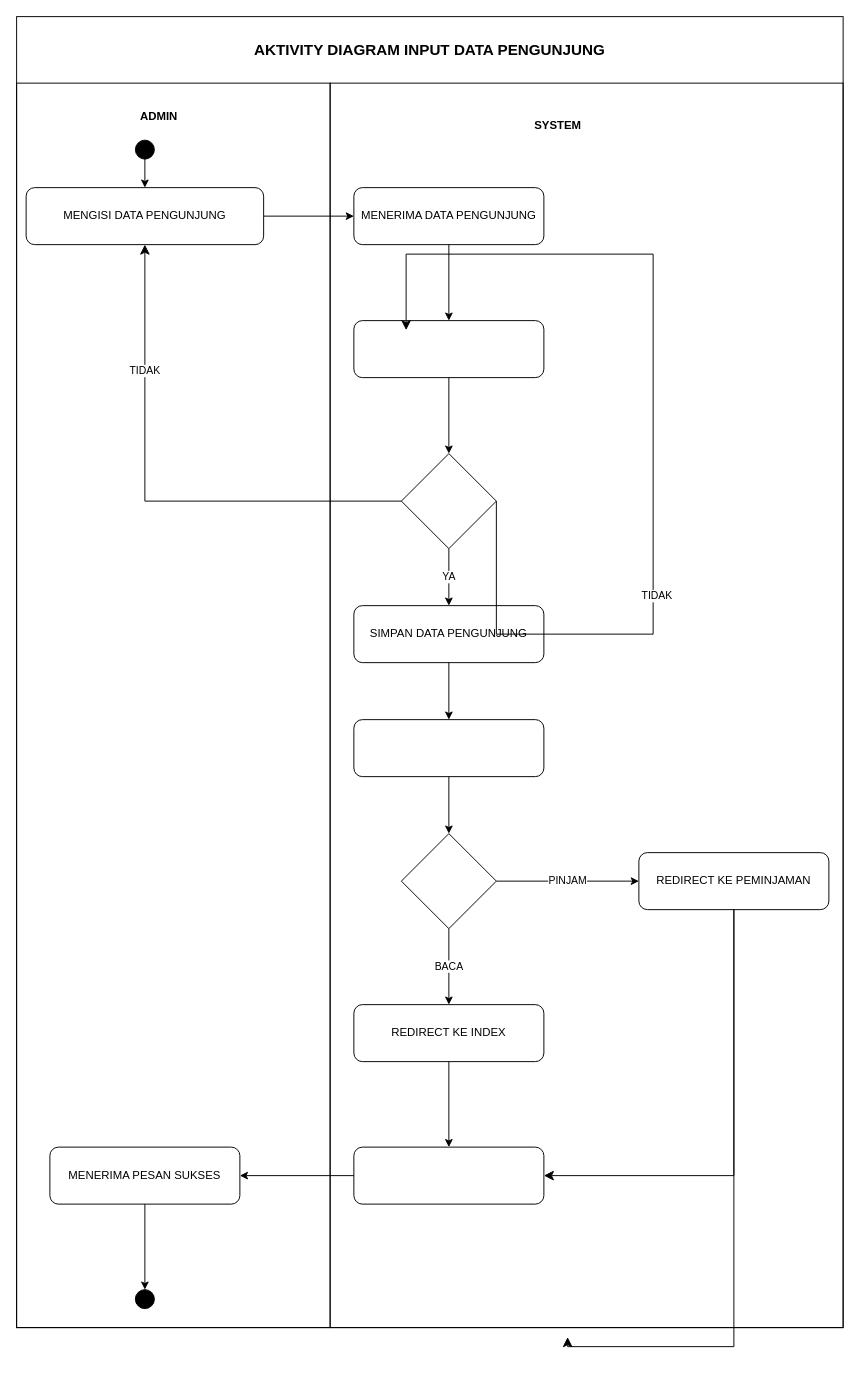
Image size: 860x1373. Some labels were removed from this diagram. The shapes that lost their labels are listed below. From the top down, each one's box as (x1, y1, x2, y2) in pixels, then its label:
(353, 320, 544, 378): MENGECEK DATA APAKAH SUDAH BENAR
(353, 719, 544, 777): CEK TUJUAN KUNJUNGAN
(353, 1146, 544, 1204): KIRIM PESAN SUKSES
